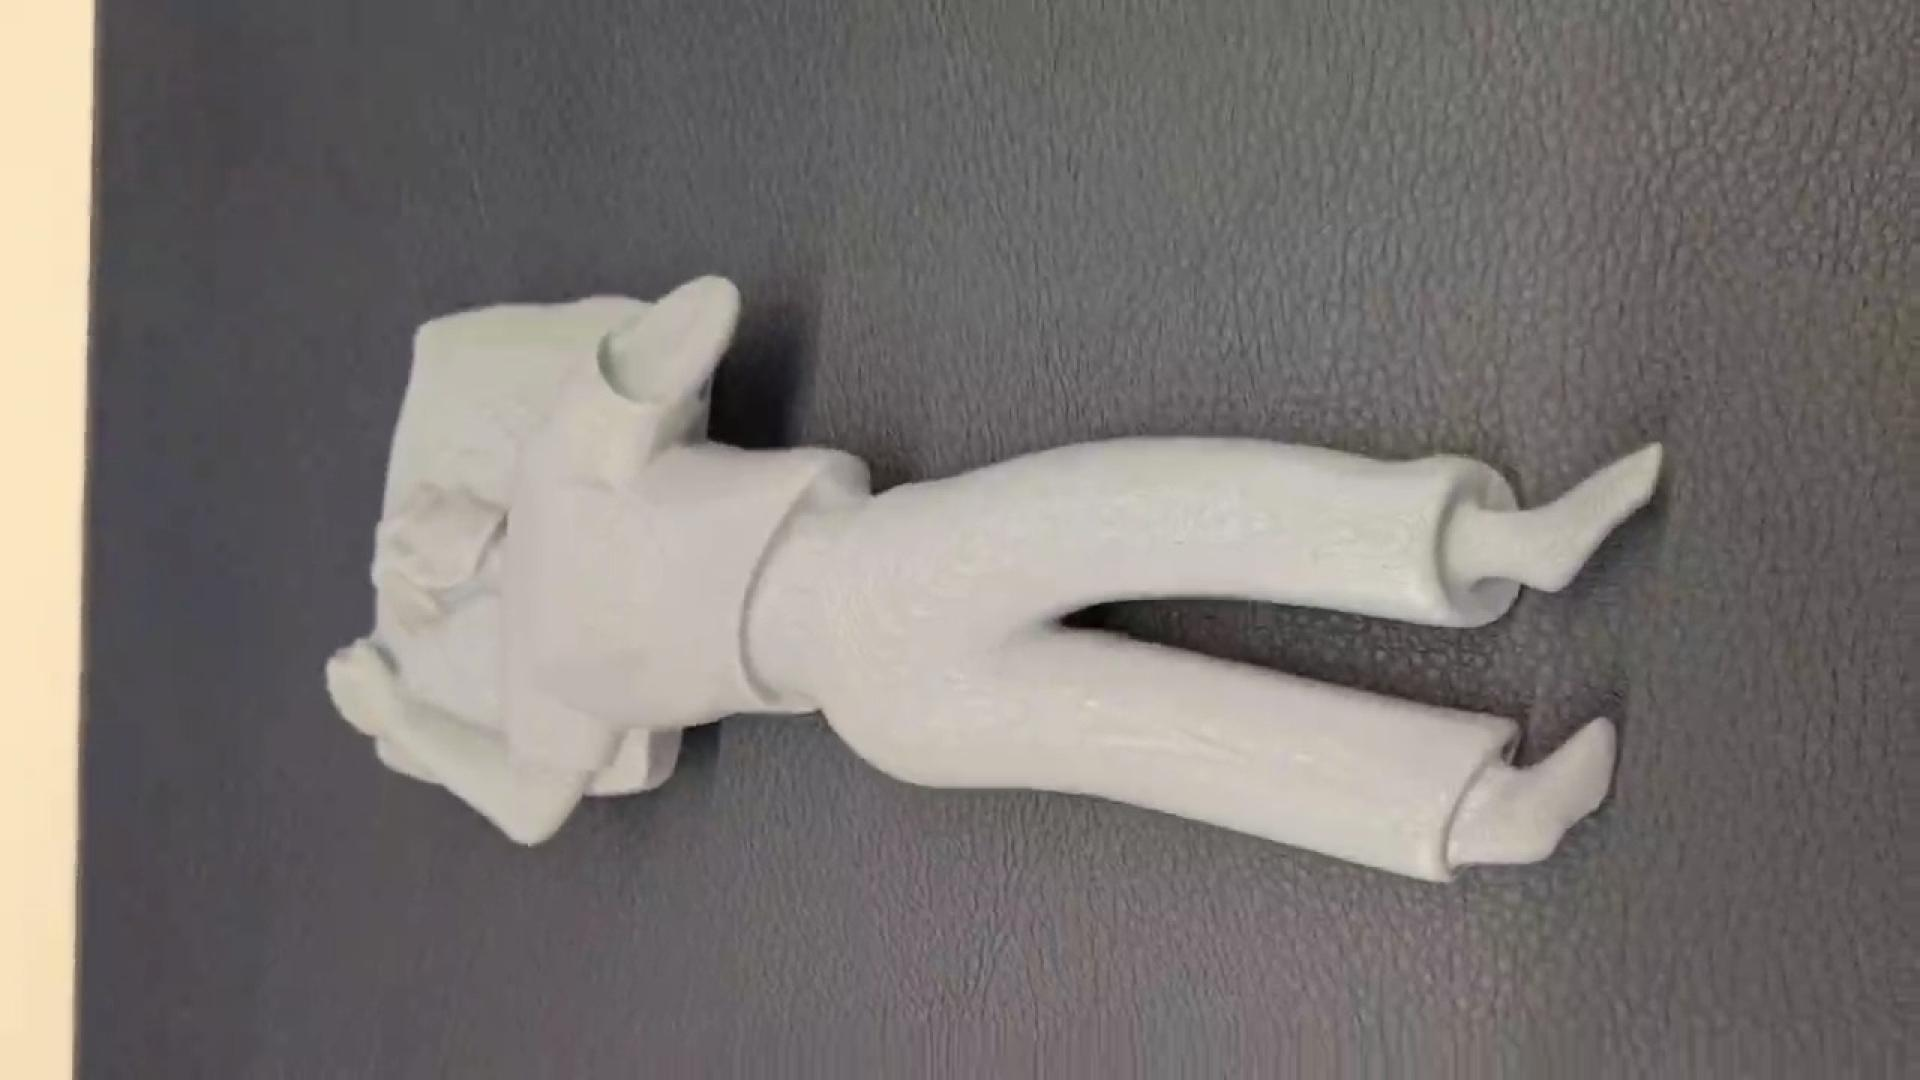Bad-style: (310, 268, 1664, 876)
